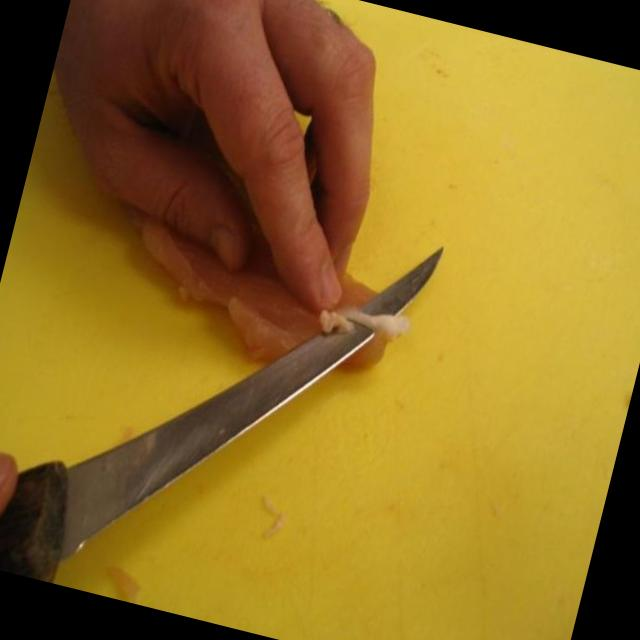Knife: (0, 323, 371, 582), (364, 248, 440, 314)
